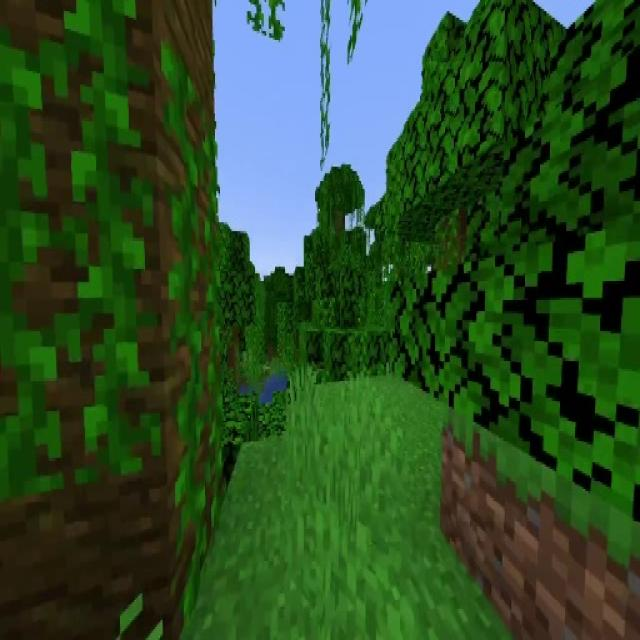jungle_log: (0, 1, 214, 640)
